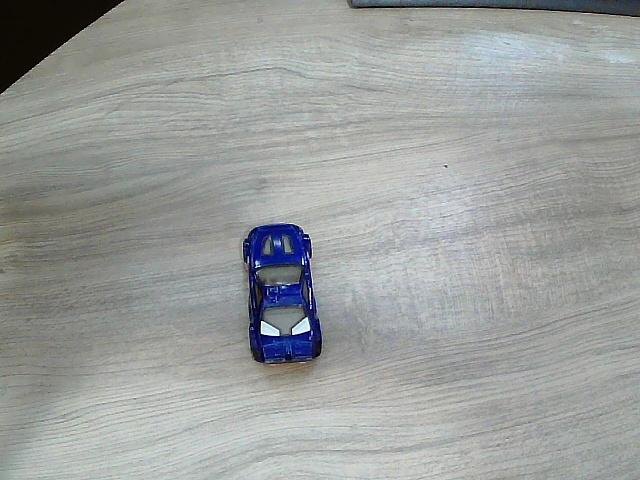Carro: (244, 225, 323, 366)
